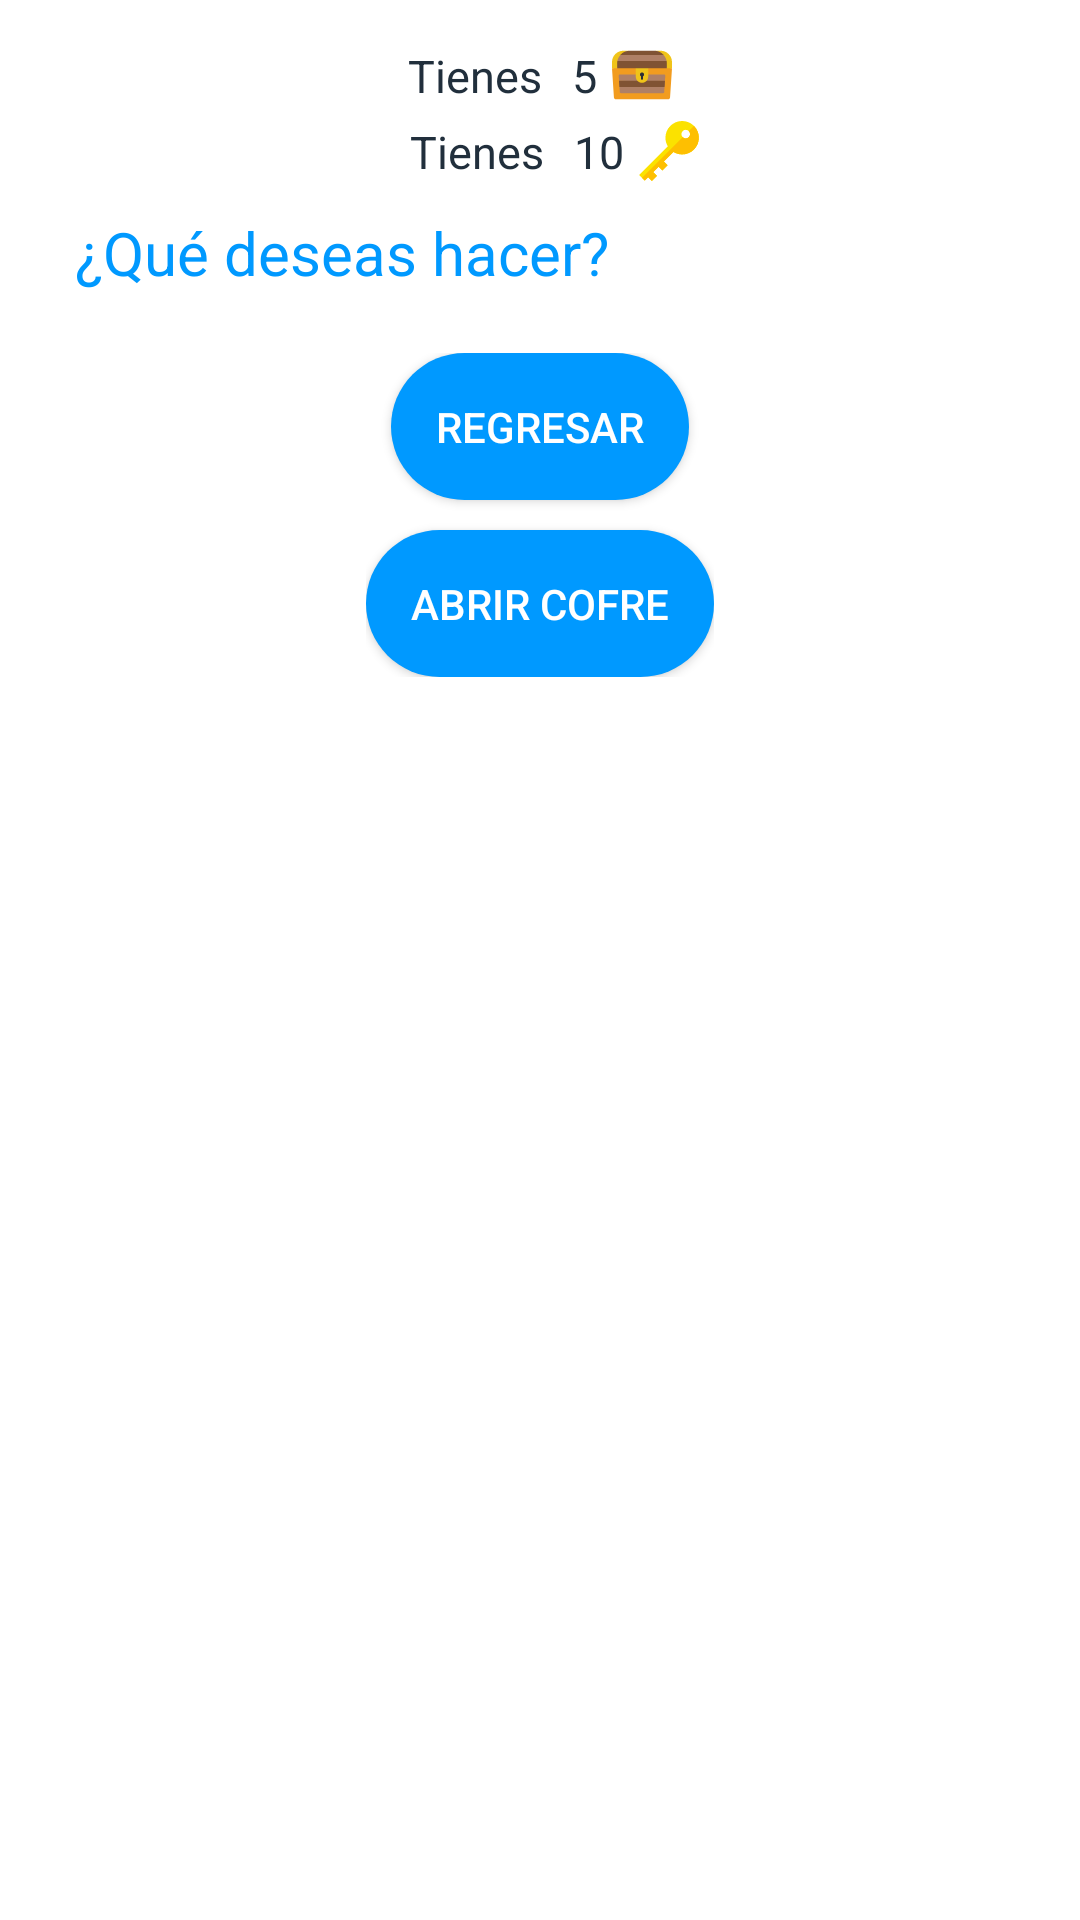

Icon bounding boxes for this 1080w x 1920h phone screenshot, format (x1, y1, x2, y2):
key: (639, 121, 699, 181)
tesoro closed: (612, 50, 672, 100)
